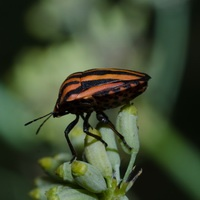insect: (25, 68, 150, 157)
